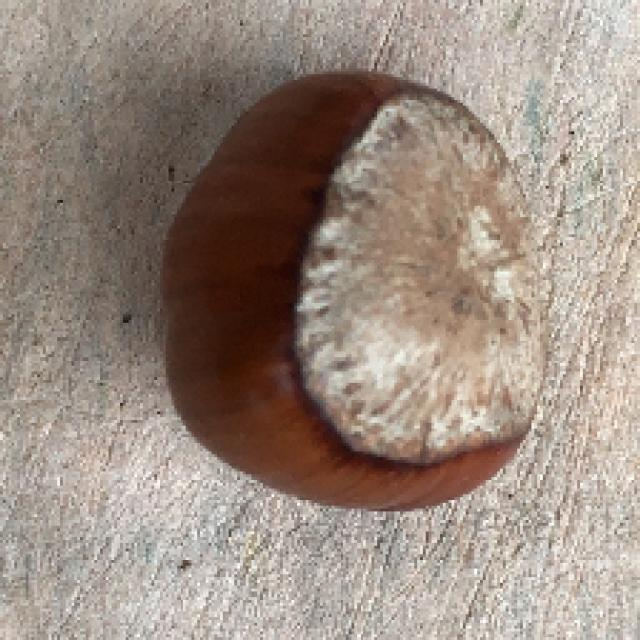qualityHazelnut: (156, 65, 552, 512)
